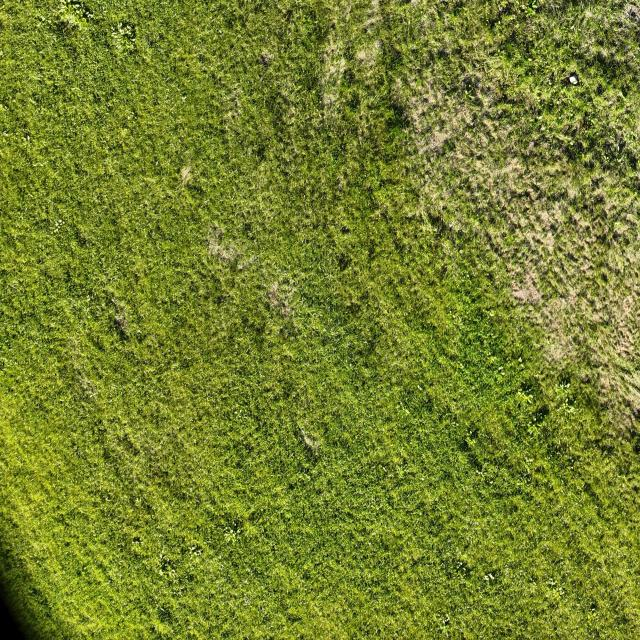rumex: (177, 523, 280, 638), (188, 261, 279, 385), (419, 532, 517, 637), (120, 347, 207, 465), (202, 0, 302, 97), (376, 0, 455, 102), (65, 252, 137, 353), (150, 533, 220, 626), (507, 373, 579, 461), (481, 1, 532, 34), (596, 128, 632, 167), (356, 2, 386, 44), (74, 359, 98, 396), (156, 550, 181, 582), (221, 101, 246, 129), (414, 394, 436, 418), (419, 196, 435, 228), (497, 1, 518, 22), (356, 46, 376, 68), (153, 619, 175, 637), (594, 48, 612, 70), (156, 604, 173, 626), (342, 68, 359, 90), (590, 189, 608, 209), (346, 91, 362, 113), (518, 379, 536, 398), (520, 0, 540, 17), (465, 432, 481, 452), (344, 300, 362, 317), (187, 179, 204, 196), (72, 230, 88, 248), (223, 526, 239, 542), (248, 508, 263, 524), (517, 391, 534, 405), (62, 18, 76, 35), (442, 138, 456, 154), (525, 187, 539, 203), (159, 557, 172, 574), (24, 135, 32, 162), (188, 544, 202, 558), (564, 404, 577, 418), (559, 380, 571, 392), (336, 176, 345, 192), (340, 224, 352, 236), (551, 589, 562, 602), (457, 560, 468, 572), (586, 609, 596, 622), (124, 25, 134, 37), (395, 465, 405, 476), (52, 222, 62, 233), (606, 98, 616, 109), (400, 407, 410, 417), (527, 426, 537, 436), (487, 356, 496, 366), (486, 572, 495, 582), (30, 587, 39, 597), (442, 615, 450, 625), (159, 551, 166, 562), (487, 310, 496, 318), (346, 340, 353, 350), (526, 457, 534, 465), (131, 538, 139, 546), (233, 520, 239, 530), (416, 384, 423, 392), (302, 237, 309, 245), (448, 220, 455, 228), (547, 77, 553, 86), (458, 362, 464, 370), (590, 606, 596, 614), (484, 574, 490, 582), (97, 418, 103, 426), (10, 281, 19, 286), (500, 370, 506, 377), (3, 130, 9, 137), (537, 115, 544, 121), (88, 14, 94, 20), (164, 93, 169, 100), (182, 95, 187, 102), (26, 135, 31, 142), (158, 441, 163, 448), (155, 159, 159, 167), (420, 476, 425, 482), (518, 356, 522, 363)
